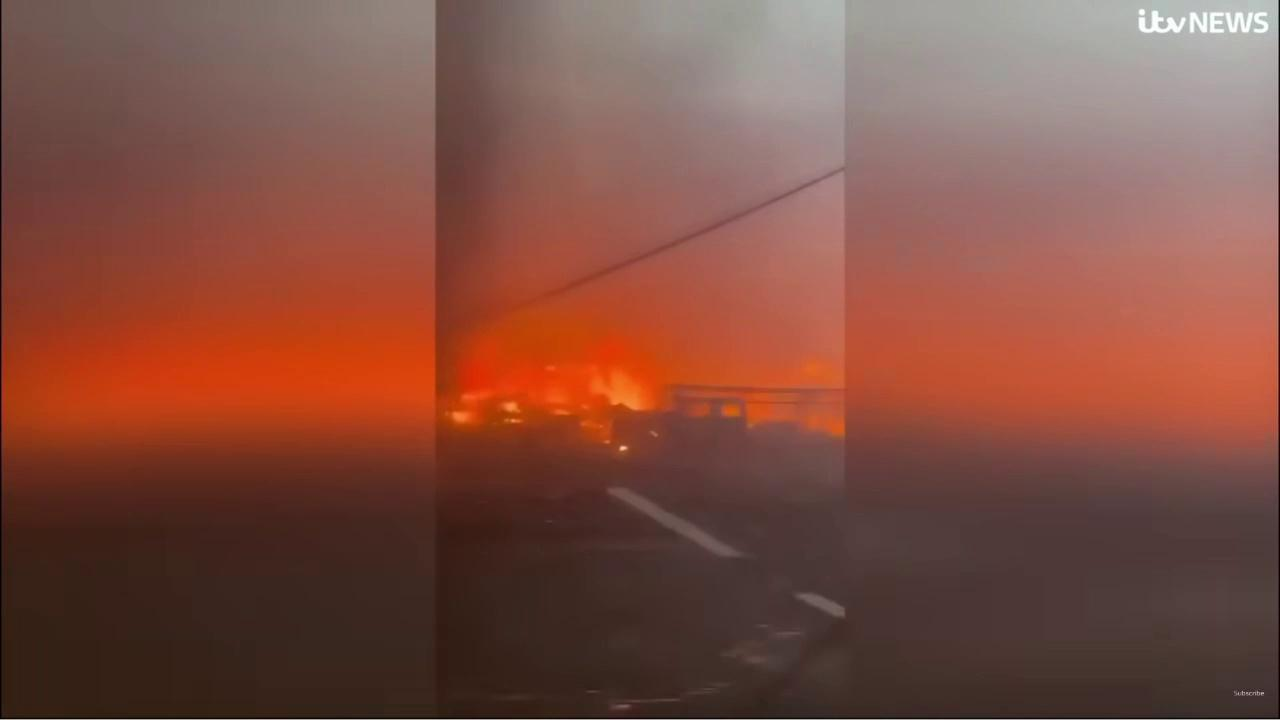fire: (444, 349, 652, 454)
smoke: (436, 0, 844, 488)
